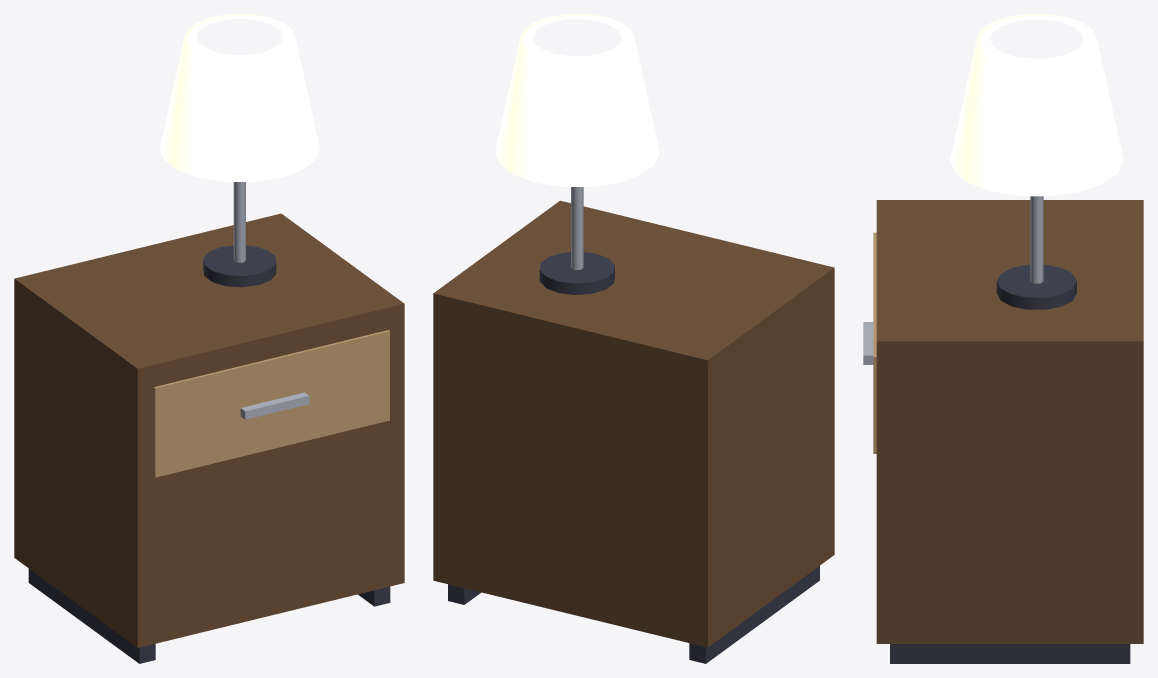
File: hsp-003.glb
3 views of the same model, side by side, from view 1: azimuth 30°, elevation 25°; view 2: azimuth 150°, elevation 25°; view 3: azimuth 270°, elevation 25° (orthographic). The views are drawn at different scales.
Visible parts, largest first — view 1: walnut, oak, lamp, dark_steel, steel; view 2: walnut, lamp, dark_steel, steel; view 3: walnut, lamp, dark_steel, steel, oak.
Boxes of the visible parts, x1,y1,x2,y2 form: walnut: [14, 213, 404, 647]; oak: [153, 330, 389, 477]; lamp: [159, 14, 319, 181]; dark_steel: [28, 245, 390, 663]; steel: [233, 182, 309, 419]; walnut: [433, 200, 834, 647]; lamp: [495, 14, 659, 186]; dark_steel: [448, 252, 819, 663]; steel: [571, 187, 583, 269]; walnut: [876, 200, 1143, 643]; lamp: [950, 14, 1123, 196]; dark_steel: [890, 264, 1130, 663]; steel: [863, 196, 1043, 364]; oak: [873, 232, 876, 453].
Size of the model in its own units: 0.5 by 0.96 by 0.42.
